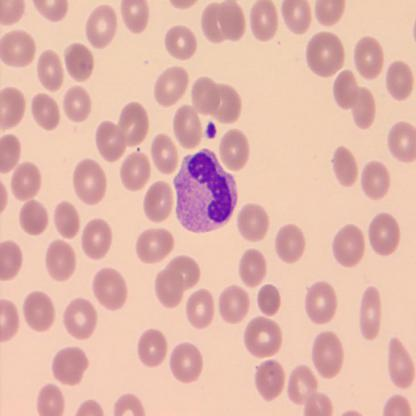Band Neutrophil: (172, 145, 239, 238)
